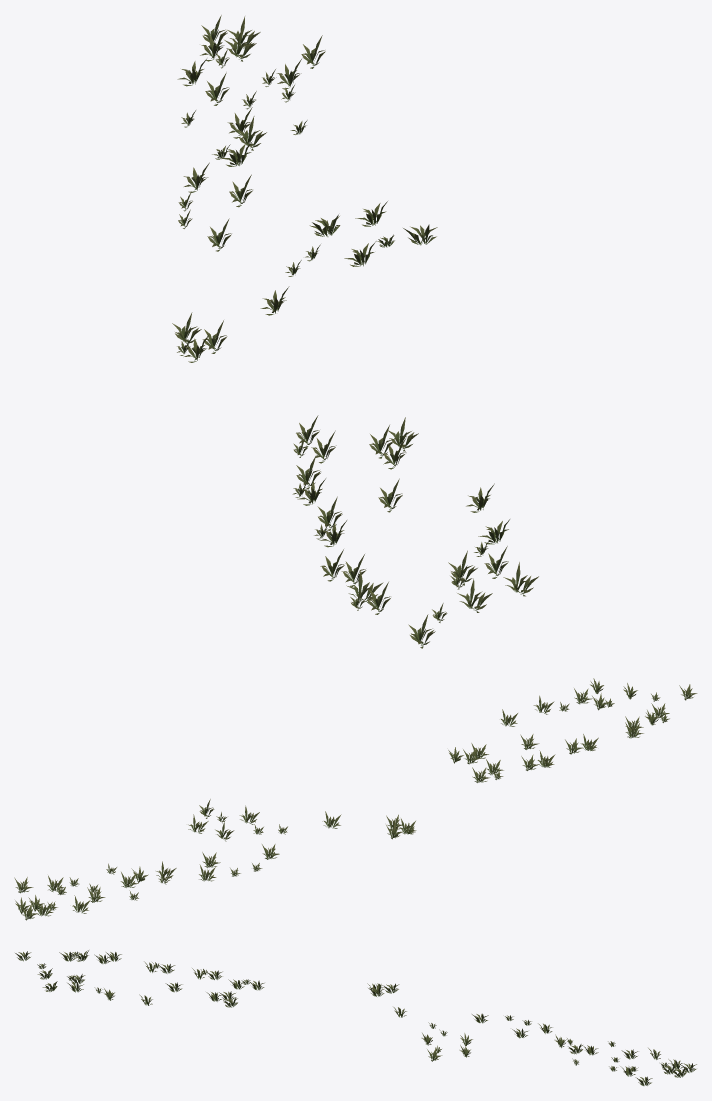
Rendered from Area_09_4.fbx.
3 views of the same model, one above another, from view 1: azimuth 30°, elevation 25°; view 2: azimuth 150°, elevation 25°; view 3: azimuth 270°, elevation 25° (orthographic). The views are drawn at different scales.
Parts seen in each view (by area): view 1: Area_09_4; view 2: Area_09_4; view 3: Area_09_4.
Part boxes in pixels (x1,y1,x2,y2): Area_09_4: (172,15,538,648); Area_09_4: (14,678,697,920); Area_09_4: (15,950,696,1085).
Bounding box in the file's own units: 2016 × 106 × 4389.
